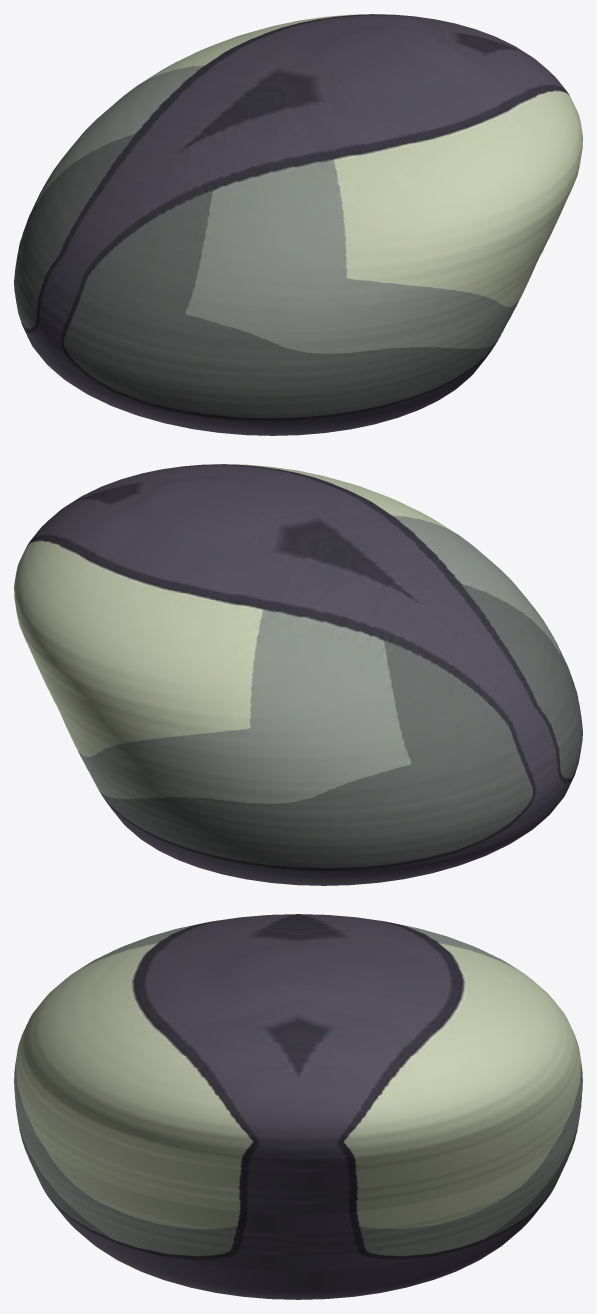
The model's file is round_stone.glb.
3 renders of one model, top to bottom at view 1: azimuth 30°, elevation 25°; view 2: azimuth 150°, elevation 25°; view 3: azimuth 270°, elevation 25°, orthographic. The views are drawn at different scales.
Visible parts, largest first — view 1: round_stone; view 2: round_stone; view 3: round_stone.
Part boxes in pixels (x1=…): round_stone: x1=14, y1=14, x2=582, y2=435; round_stone: x1=14, y1=464, x2=582, y2=885; round_stone: x1=14, y1=914, x2=582, y2=1299.
Size of the model in its own units: 1 by 0.5432 by 0.8974.
1 material, 1 textured.
